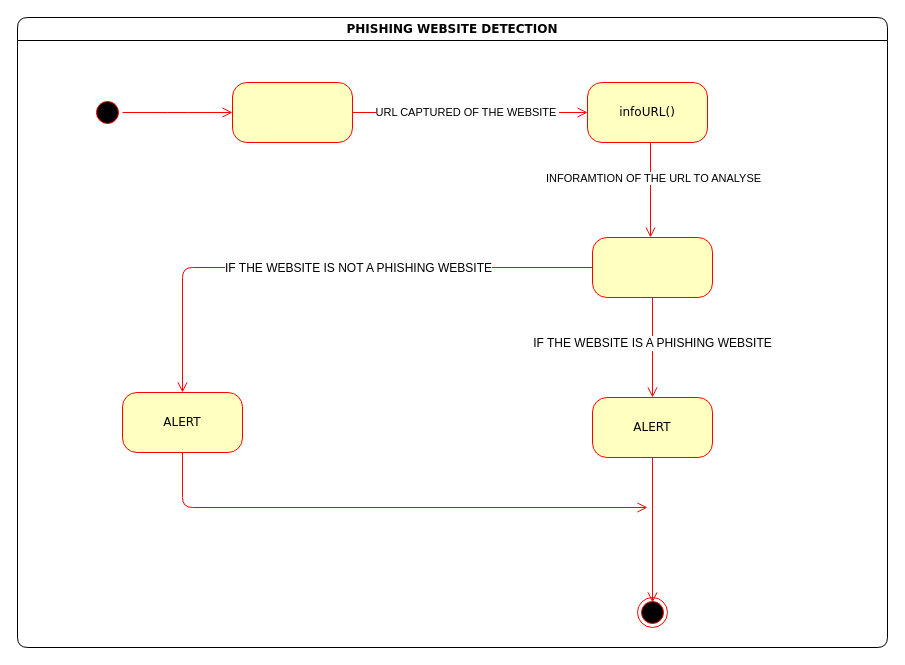
This 905x665 diagram has some shape labels left out. Each missing label, with the box of its shape:
ANALYSER: (592, 236, 712, 298)
CAPTURE URL: (232, 82, 352, 142)
